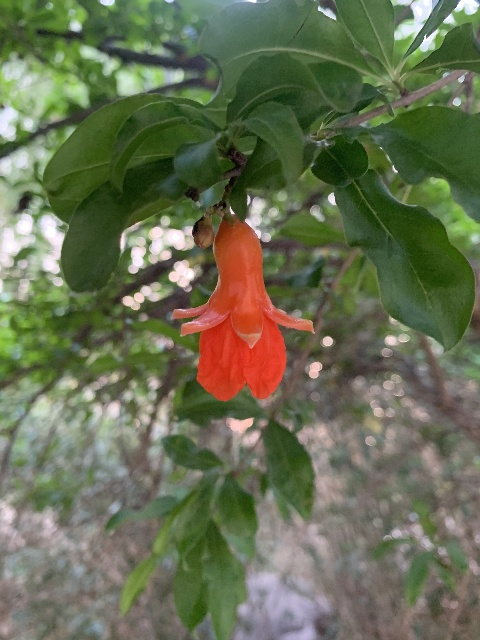bud: (192, 213, 215, 249)
flower: (171, 214, 313, 402)
